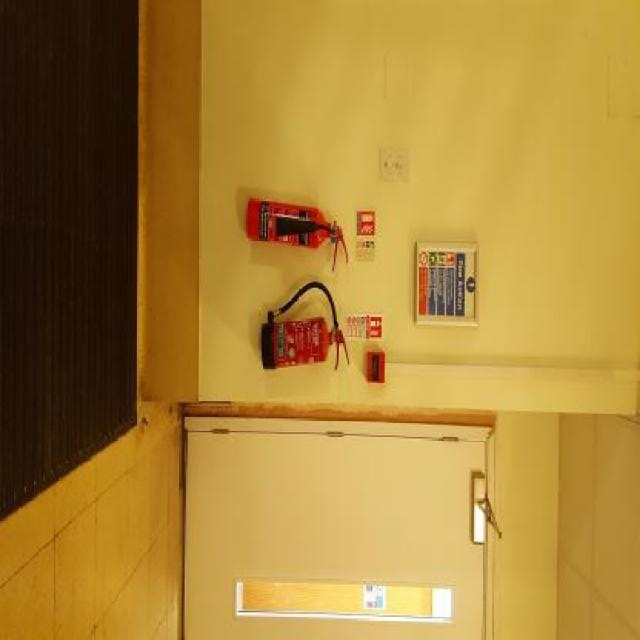fire extinguisher: (266, 278, 351, 370), (247, 197, 347, 269)
